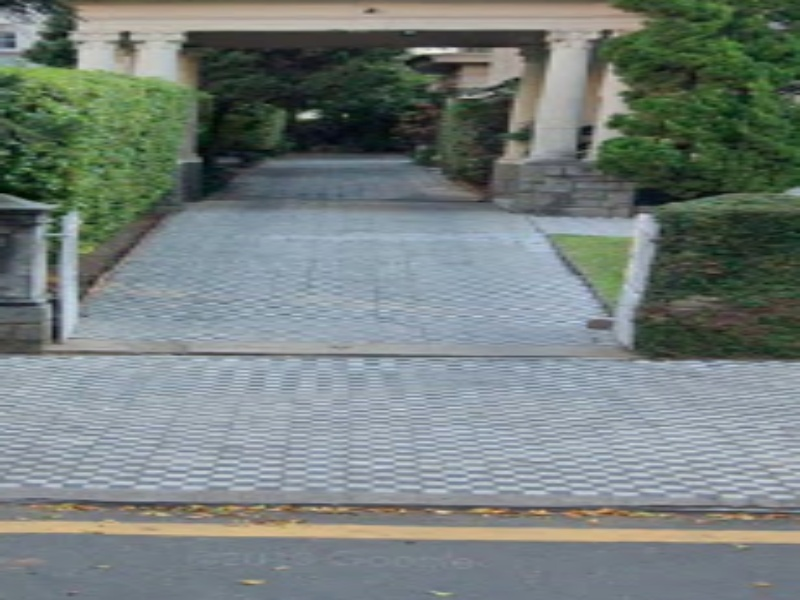g30: (11, 434, 668, 579)
